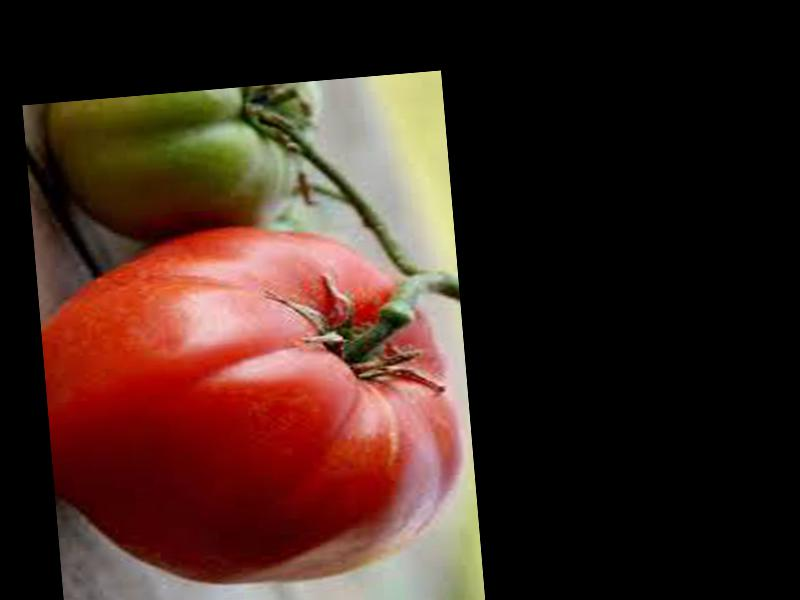Tomato: (33, 211, 474, 600)
